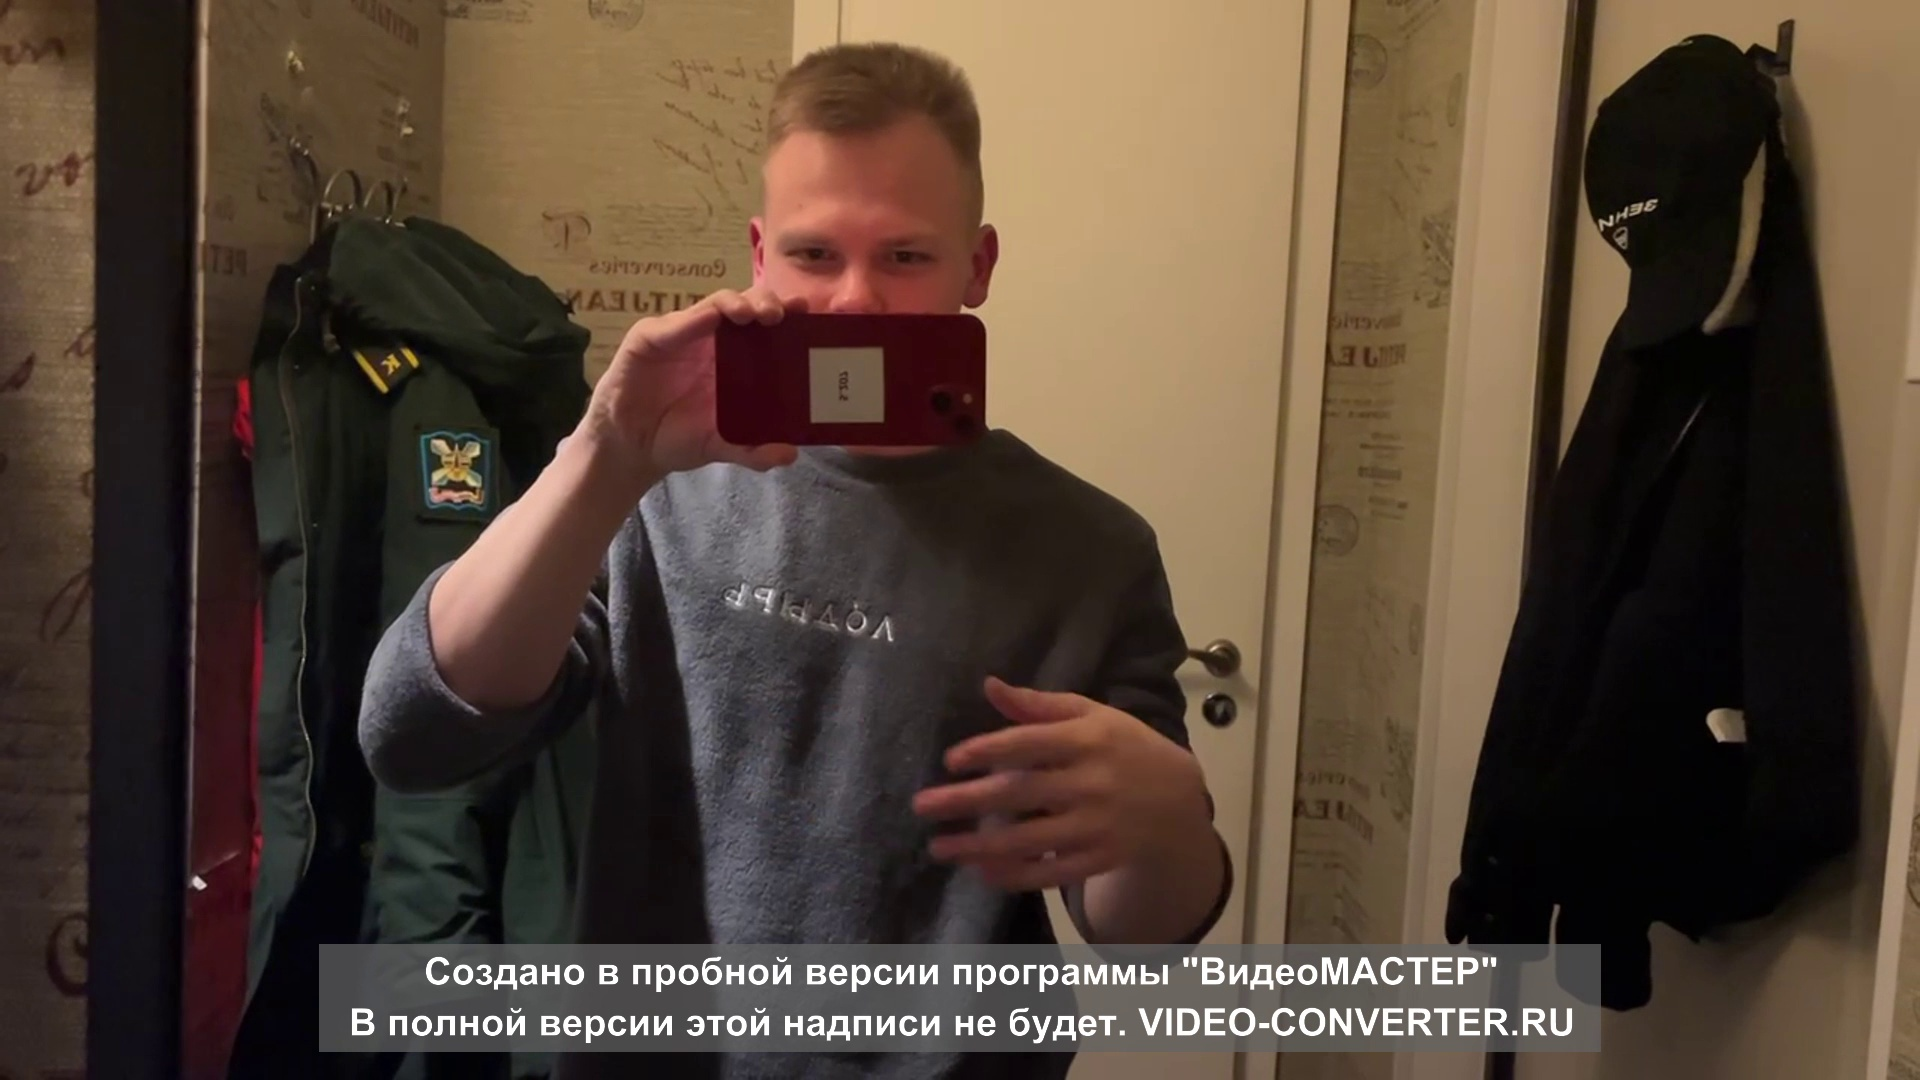Кисть: (915, 674, 1176, 890)
